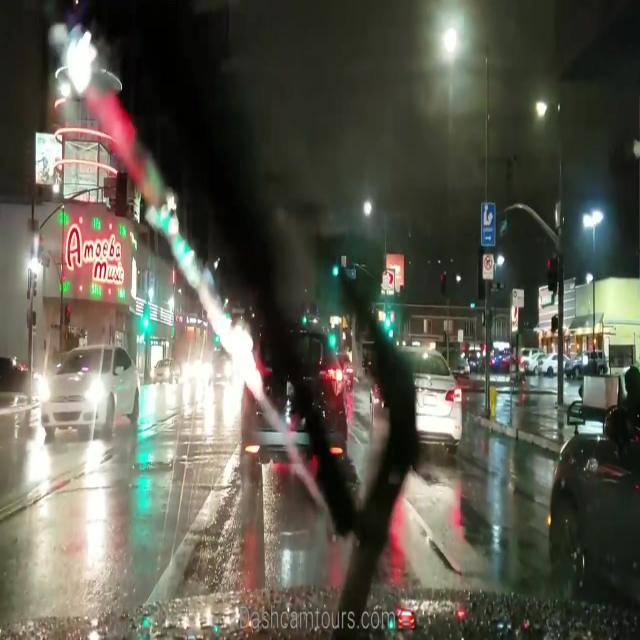Car: (557, 412, 636, 605), (239, 337, 342, 477), (37, 338, 140, 442), (371, 346, 461, 448)
